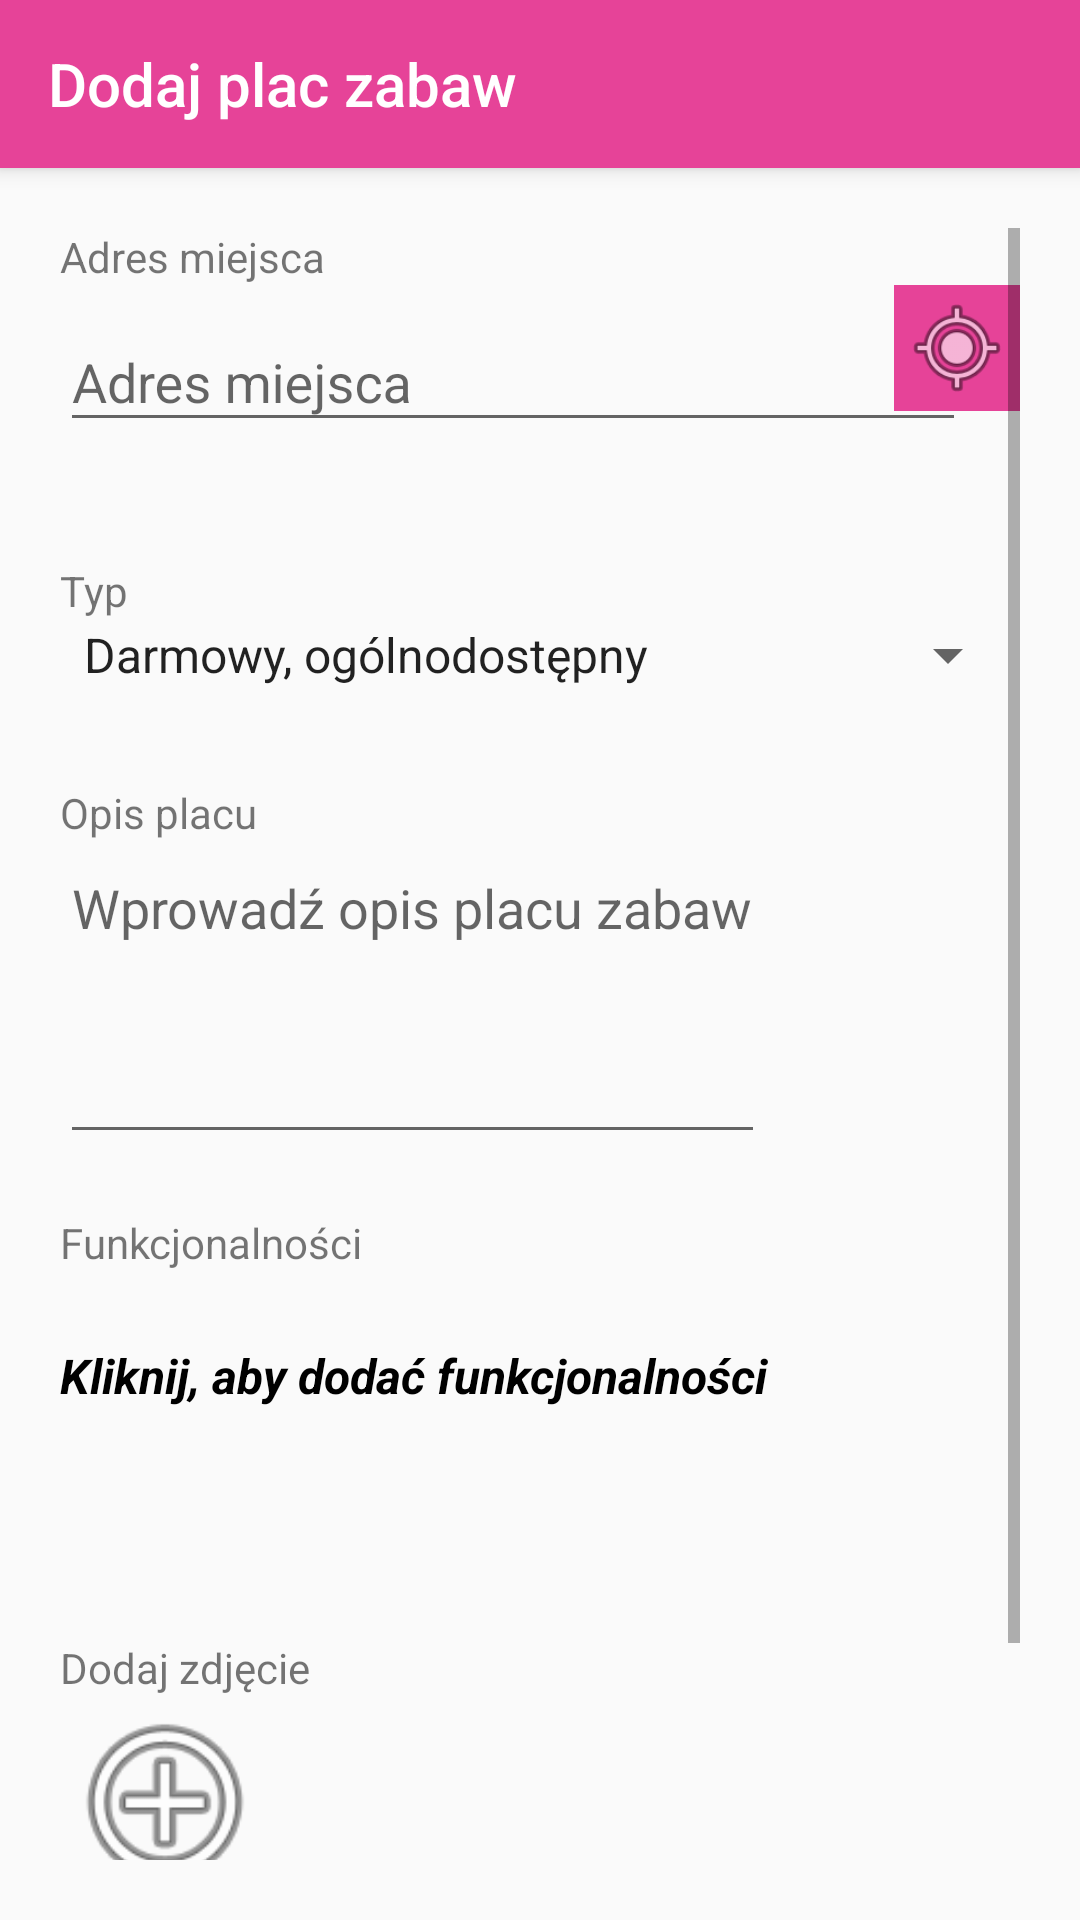

Icon bounding boxes for this 1080px x 1920px phone screenshot, format (x1, y1, x2, y2):
mylocation: (894, 285, 1020, 411)
